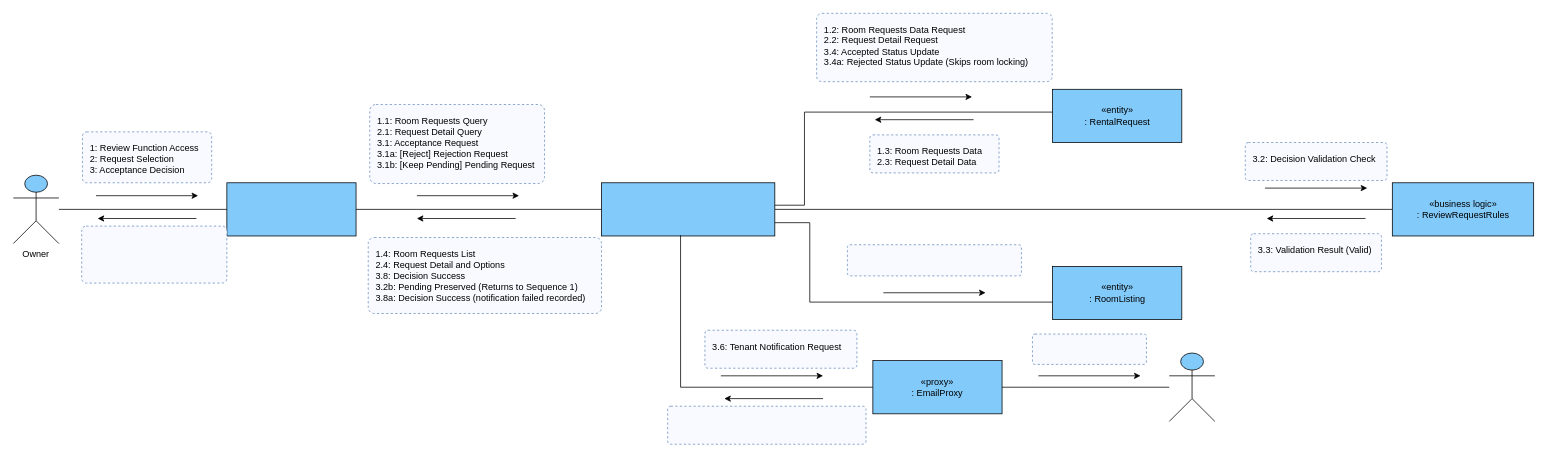
This 1547x462 diagram has some shape labels left out. The box of each missing label's shape, as (x1, y1, x2, y2) in pixels:
1.5: Requests Display 2.5: Request Detail Display 3.9: Success Message Display: (81, 225, 227, 283)
3.5: Locked Status Update: (847, 244, 1021, 276)
3.7: Tenant Notification: (1032, 333, 1146, 364)
3.7a: [Provider unavailable] Delivery Failure: (667, 405, 866, 444)
Email Provider: (1168, 352, 1215, 421)
«coordinator» : ReviewRequestCoordinator: (601, 182, 775, 236)
«user interaction» : OwnerUI: (226, 182, 356, 236)
